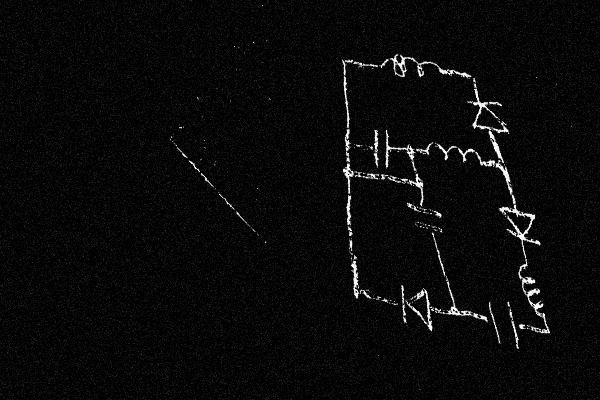capacitor: (471, 285, 538, 365), (399, 186, 453, 249), (356, 116, 405, 176)
diode: (456, 78, 520, 155), (385, 269, 448, 347), (489, 189, 552, 263)
inductor: (371, 21, 450, 117), (418, 113, 491, 200), (504, 256, 562, 325)
